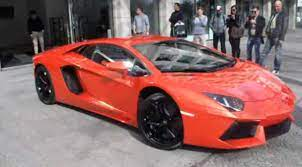Lamborghini: (33, 33, 294, 151)
